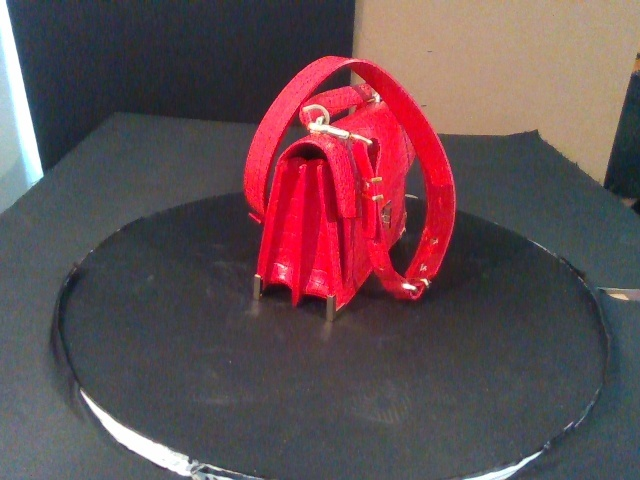bag: (249, 96, 409, 321)
